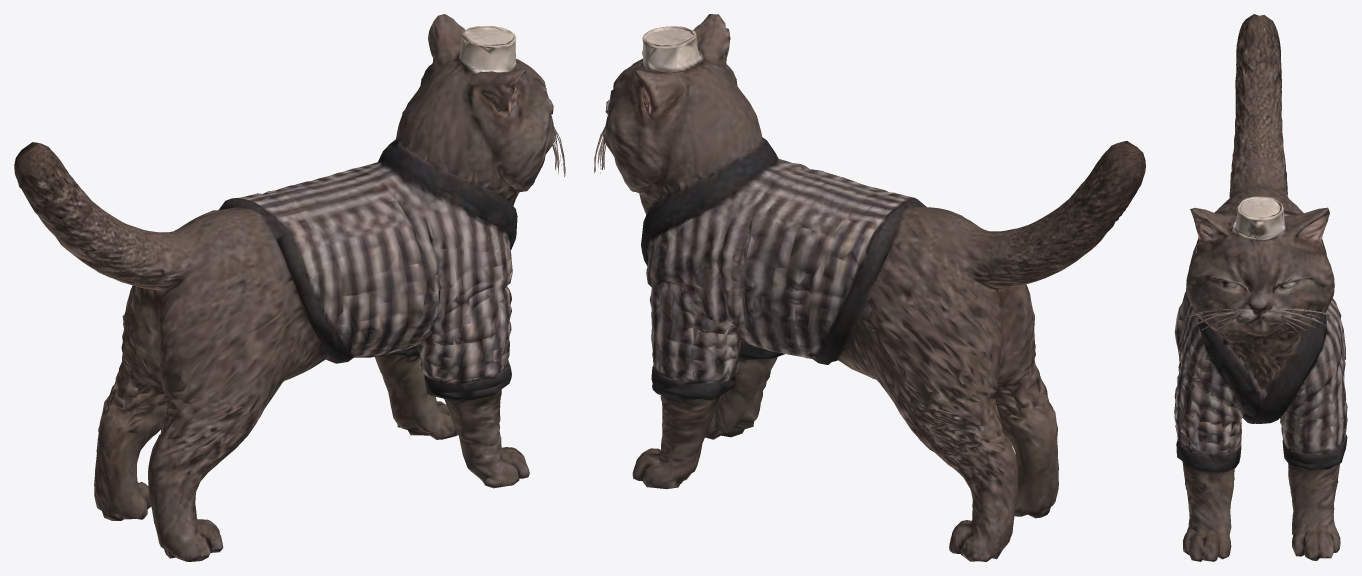
Rendered from HEIZOU.glb.
3 renders of one model, left to right at view 1: azimuth 30°, elevation 25°; view 2: azimuth 150°, elevation 25°; view 3: azimuth 270°, elevation 25°, orthographic. The views are drawn at different scales.
Parts seen in each view (by area): view 1: tripo_node_1e9de2b3-97af-4827-8452-b3a7c5578d28; view 2: tripo_node_1e9de2b3-97af-4827-8452-b3a7c5578d28; view 3: tripo_node_1e9de2b3-97af-4827-8452-b3a7c5578d28.
Boxes of the visible parts, x1,y1,x2,y2 form: tripo_node_1e9de2b3-97af-4827-8452-b3a7c5578d28: [14, 14, 565, 561]; tripo_node_1e9de2b3-97af-4827-8452-b3a7c5578d28: [594, 14, 1145, 561]; tripo_node_1e9de2b3-97af-4827-8452-b3a7c5578d28: [1174, 14, 1347, 561].
Size of the model in its own units: 1.33 by 0.9969 by 0.4349.
1 material, 1 textured.
